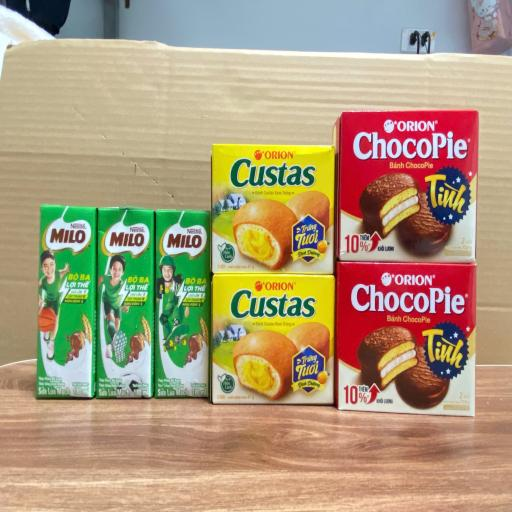chocopie: (332, 109, 478, 263), (334, 260, 477, 416)
custas: (211, 142, 335, 274), (210, 274, 334, 404)
milo: (36, 204, 98, 398), (96, 206, 155, 398), (154, 209, 212, 398)
